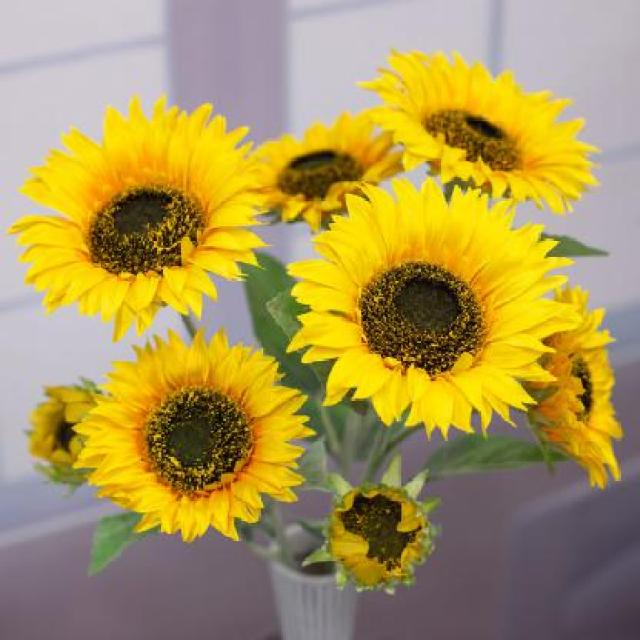sunflower: (287, 171, 575, 434), (11, 85, 272, 342), (70, 331, 319, 554), (358, 36, 606, 221)
